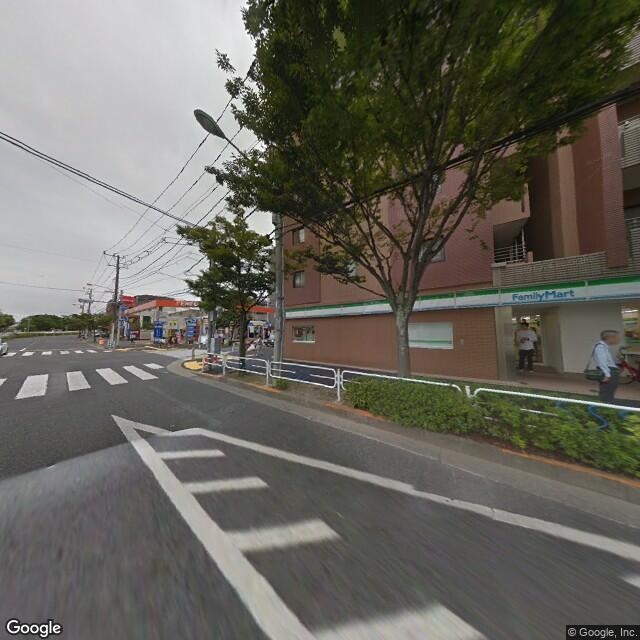family_mart: (285, 272, 637, 321)
